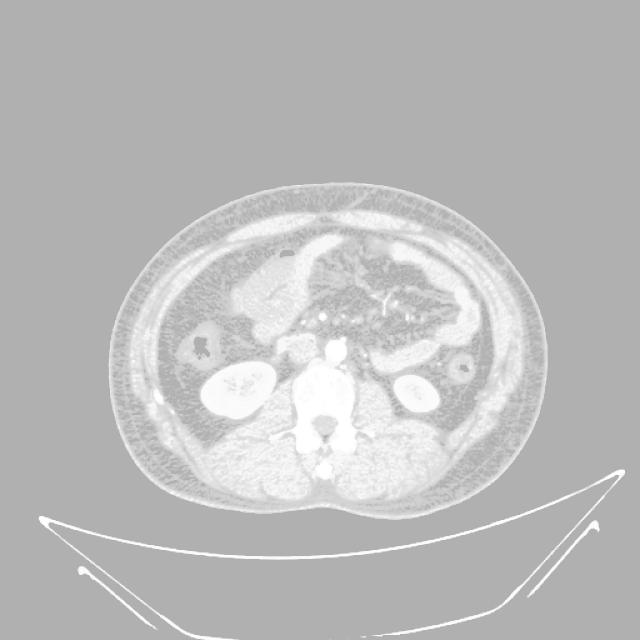NORMAL: (93, 186, 550, 521)
